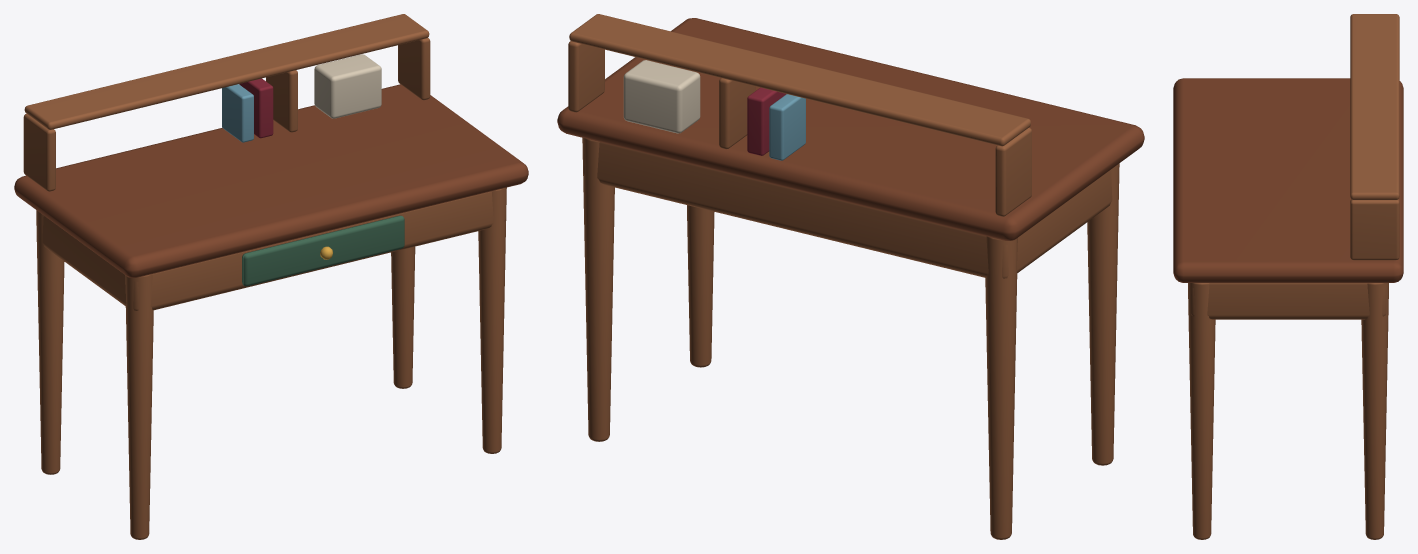
The model's file is writing-desk.glb.
The picture shows the model from 3 angles, left to right: view 1: azimuth 30°, elevation 25°; view 2: azimuth 150°, elevation 25°; view 3: azimuth 270°, elevation 25°; orthographic projection. The views are drawn at different scales.
Visible parts, largest first — view 1: writing-desk; view 2: writing-desk; view 3: writing-desk.
Part boxes in pixels (x1,y1,x2,y2): writing-desk: (14,14,528,539); writing-desk: (557,14,1144,539); writing-desk: (1173,14,1403,539).
Size of the model in its own units: 1.1 by 0.94 by 0.56.
